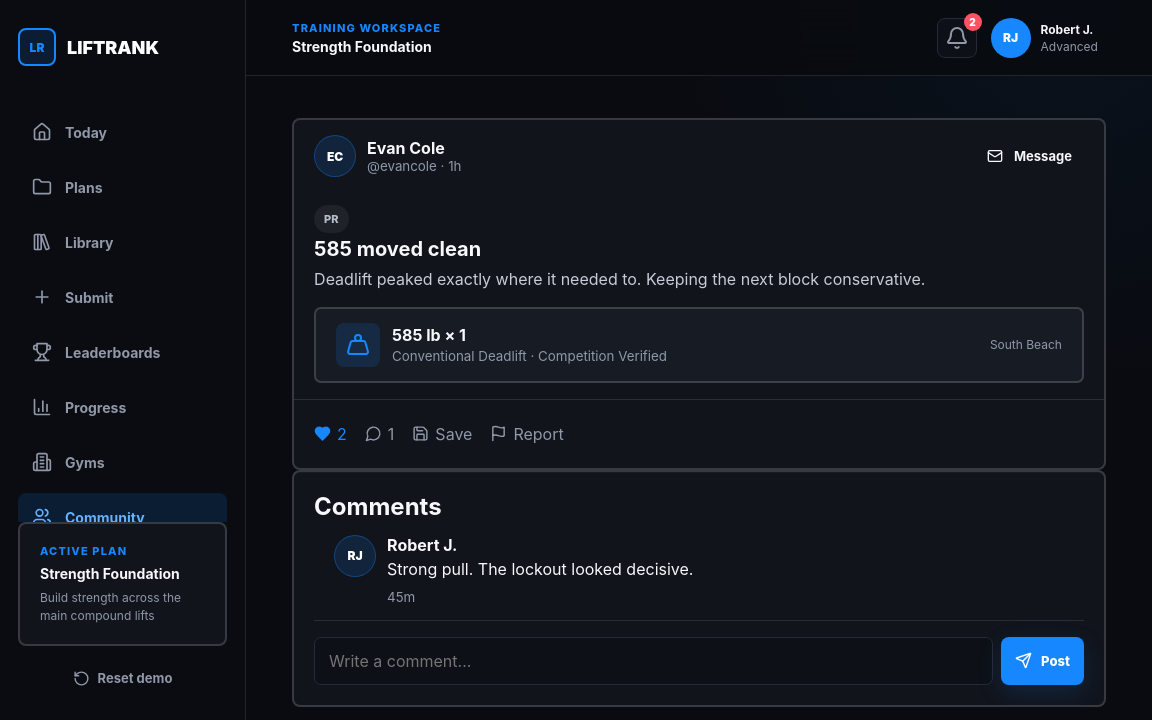
Test case: LiftRank tracker UI › shows seeded community comments and supports likes
Expected: the text "Strong pull. The lockout looked decisive." is shown, 387,558 -> 694,581
Click the button named "Like post, 2 likes".
click(330, 434)  # box 314,415 -> 347,453
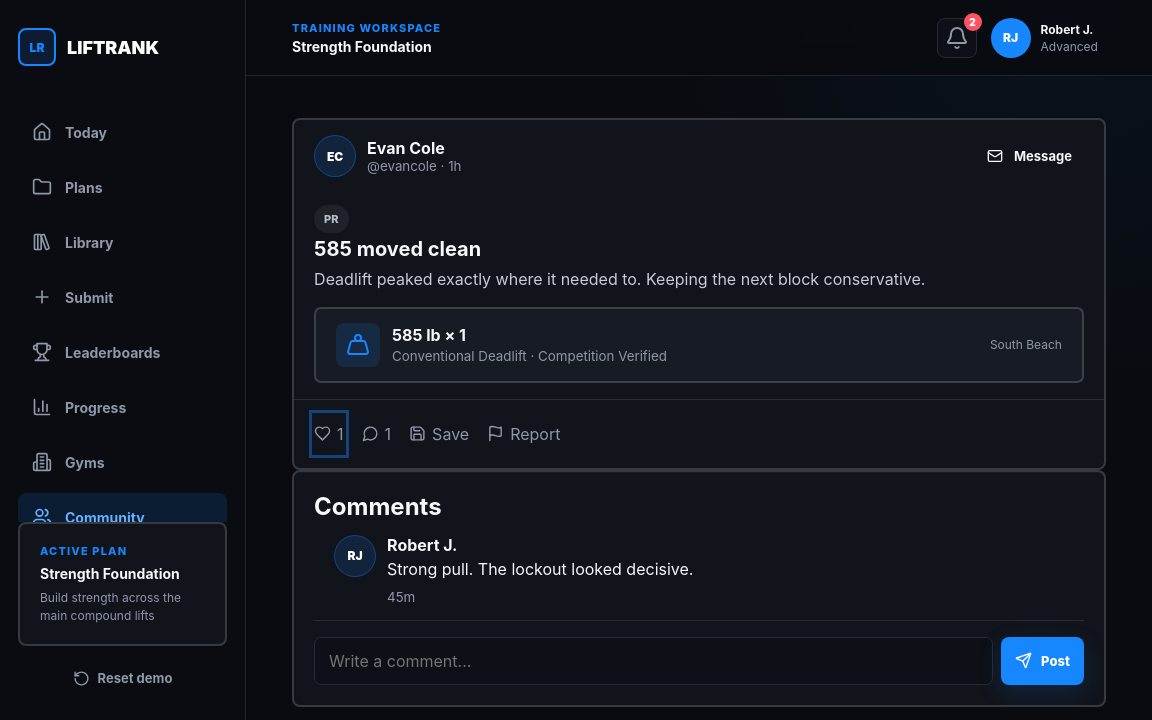
Expected: the button named "Like post, 1 likes" is shown, 314,415 -> 344,453
